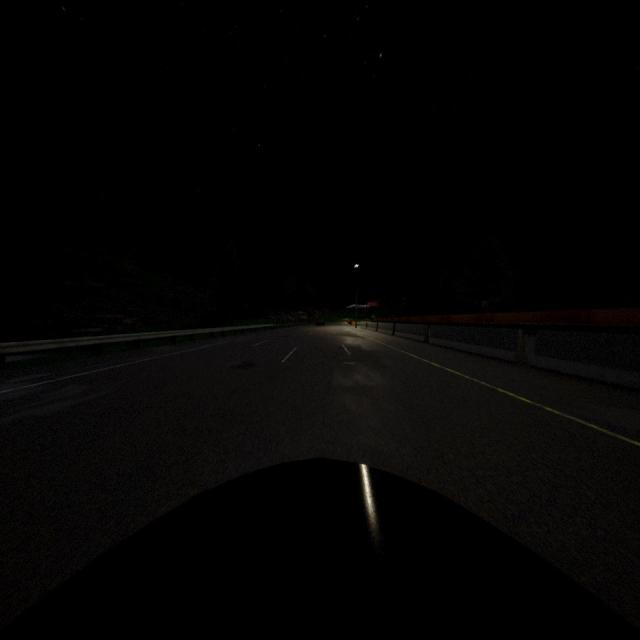Vehicle: (1, 454, 640, 640), (315, 319, 325, 327)
